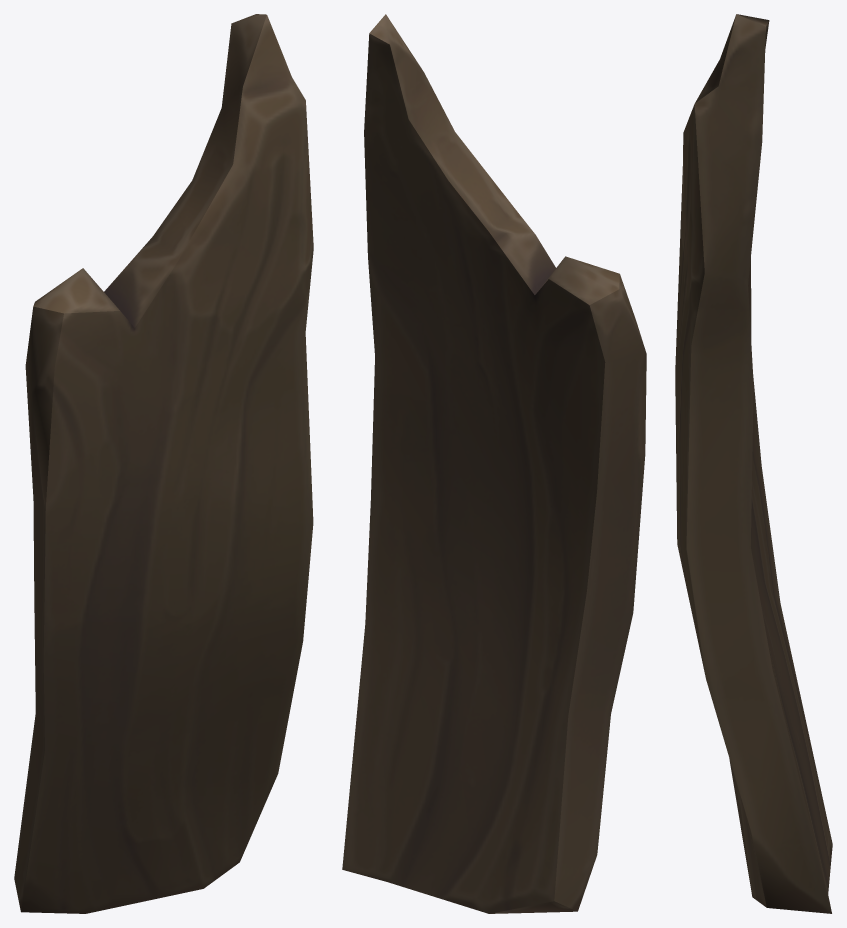
Rendered from SM_FW01_BarrelDebris_03.fbx.
3 views of the same model, side by side, from view 1: azimuth 30°, elevation 25°; view 2: azimuth 150°, elevation 25°; view 3: azimuth 270°, elevation 25° (orthographic). The views are drawn at different scales.
Visible parts, largest first — view 1: SM_FW01_BarrelDebris_03_LOD0; view 2: SM_FW01_BarrelDebris_03_LOD0; view 3: SM_FW01_BarrelDebris_03_LOD0.
Boxes of the visible parts, box(x1,y1,x2,y2) form: SM_FW01_BarrelDebris_03_LOD0: box(14, 14, 313, 913); SM_FW01_BarrelDebris_03_LOD0: box(342, 14, 646, 913); SM_FW01_BarrelDebris_03_LOD0: box(675, 14, 832, 913).
Size of what is drawn, in the model's own units: 0.3099 by 0.9057 by 0.1412.
